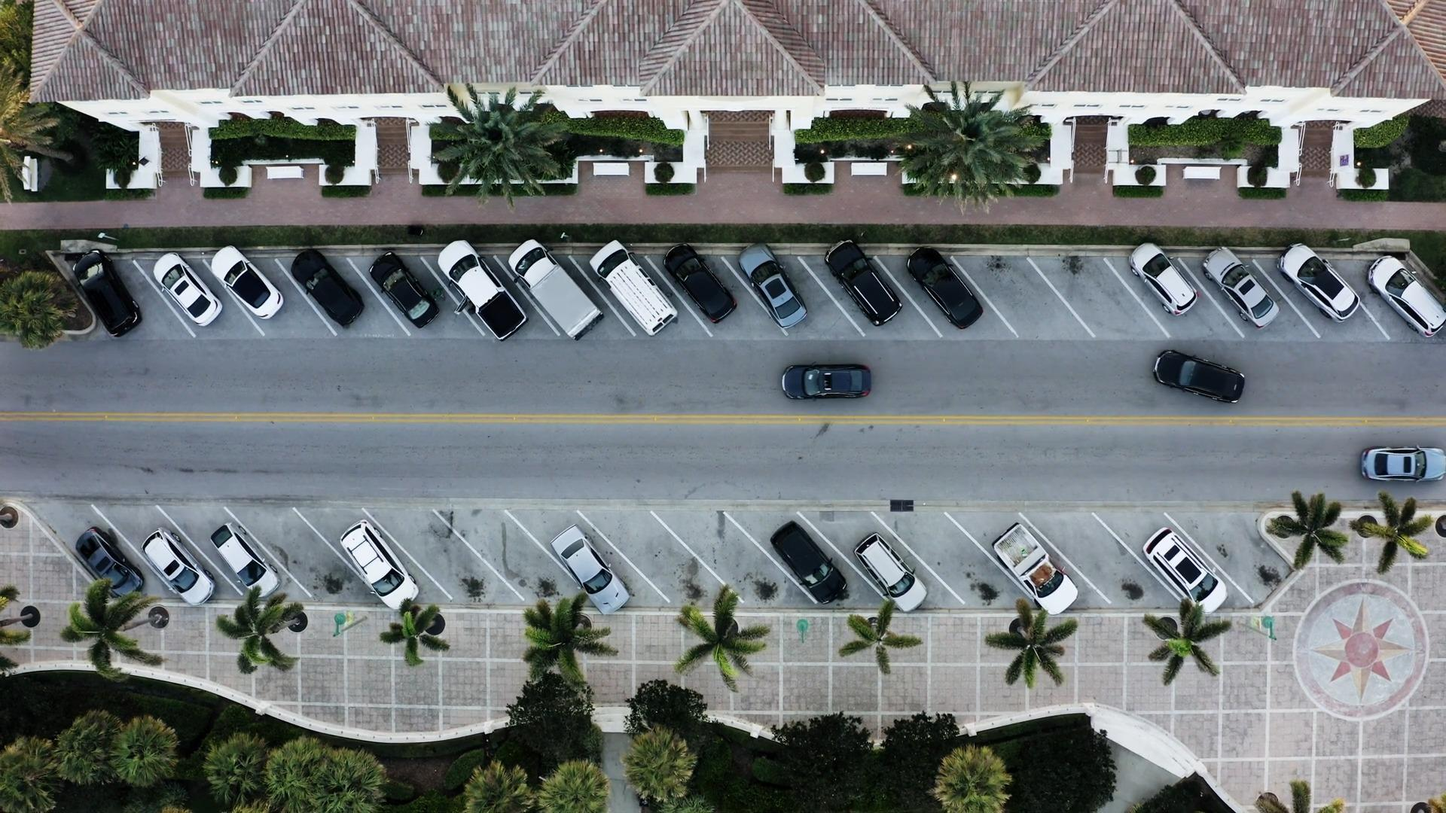available space: (292, 173, 338, 191), (634, 123, 679, 141)
free: (582, 485, 687, 594)
occupied: (1034, 336, 1077, 373), (1398, 77, 1431, 122), (1229, 217, 1269, 252), (976, 134, 1035, 157), (242, 695, 294, 721), (699, 784, 743, 813), (751, 259, 806, 282), (58, 416, 115, 438), (527, 139, 573, 166), (920, 110, 976, 132), (1128, 299, 1176, 324), (1130, 495, 1193, 514), (1276, 276, 1330, 298), (224, 102, 280, 123), (113, 727, 169, 748), (226, 126, 282, 147), (1274, 679, 1329, 700), (290, 123, 342, 145), (289, 651, 343, 672), (86, 439, 133, 463), (110, 632, 165, 652), (82, 186, 104, 236), (1316, 18, 1365, 40), (165, 93, 190, 136), (223, 154, 279, 173), (581, 121, 631, 142), (57, 527, 93, 556), (1149, 348, 1201, 368), (74, 749, 121, 771), (291, 196, 340, 217), (1336, 160, 1385, 181), (239, 748, 290, 768), (471, 789, 517, 811), (126, 701, 174, 722), (130, 524, 166, 552), (61, 294, 114, 313), (413, 790, 463, 810), (979, 681, 1026, 702), (991, 773, 1032, 797), (720, 353, 742, 397), (102, 127, 150, 147), (237, 199, 285, 219), (1272, 325, 1322, 344), (237, 270, 287, 289), (236, 224, 286, 243), (929, 233, 979, 252), (118, 174, 161, 196), (923, 138, 968, 159), (755, 130, 802, 150), (288, 414, 335, 434), (1099, 184, 1146, 204), (235, 341, 287, 359), (406, 198, 455, 217), (414, 746, 463, 765), (592, 720, 638, 740), (931, 658, 977, 678), (808, 684, 854, 704), (1176, 775, 1222, 795), (114, 342, 162, 361), (69, 774, 117, 793), (417, 604, 465, 623), (234, 172, 282, 191), (757, 662, 805, 681), (463, 411, 506, 432), (295, 562, 345, 580), (299, 747, 344, 767), (120, 775, 165, 795), (752, 89, 797, 109), (1102, 136, 1147, 156), (107, 369, 157, 387), (240, 583, 287, 602), (295, 604, 342, 623), (643, 672, 690, 691), (1340, 185, 1387, 204), (1340, 206, 1387, 225), (982, 636, 1029, 655), (1149, 256, 1196, 275), (925, 280, 972, 299), (1096, 589, 1145, 607), (1277, 132, 1319, 153), (292, 223, 336, 243), (245, 725, 291, 744), (418, 722, 464, 741), (302, 770, 348, 789), (801, 211, 847, 230), (1152, 114, 1198, 133), (759, 637, 805, 656), (66, 492, 114, 510), (1338, 229, 1386, 247), (1145, 163, 1193, 181), (810, 661, 858, 679), (808, 96, 851, 116), (590, 767, 635, 786), (1275, 157, 1320, 176), (469, 696, 514, 715), (461, 195, 506, 214), (1149, 232, 1194, 251), (1102, 256, 1147, 275), (809, 234, 854, 253), (1102, 682, 1152, 699), (243, 538, 290, 556), (299, 791, 341, 811), (411, 77, 453, 97), (634, 144, 678, 163), (287, 271, 331, 290), (640, 646, 684, 665), (237, 389, 286, 406), (412, 489, 461, 506), (1265, 374, 1314, 391), (244, 515, 290, 533), (285, 441, 331, 459), (239, 294, 285, 312), (1339, 254, 1385, 272), (588, 789, 634, 807), (1157, 685, 1203, 703), (1100, 471, 1146, 489), (1152, 422, 1198, 440), (1157, 374, 1203, 392), (1149, 139, 1195, 157), (1098, 233, 1144, 251), (96, 515, 129, 540), (132, 414, 175, 433), (981, 113, 1024, 132), (292, 247, 335, 266), (461, 86, 504, 105), (1276, 565, 1324, 582), (299, 726, 344, 744), (474, 581, 519, 599), (1343, 347, 1388, 365), (1340, 278, 1385, 296), (412, 652, 457, 670), (1098, 634, 1143, 652), (463, 126, 508, 144), (1345, 684, 1390, 702), (411, 268, 456, 286), (696, 351, 716, 391), (1282, 109, 1324, 128), (294, 339, 338, 357), (301, 679, 345, 697), (1103, 424, 1147, 442), (1103, 372, 1147, 390), (461, 220, 505, 238), (1149, 185, 1193, 203), (1342, 612, 1388, 629), (1279, 469, 1325, 486), (1280, 183, 1321, 202), (422, 581, 463, 600), (120, 220, 163, 238), (1280, 423, 1323, 441), (289, 490, 332, 508), (1343, 372, 1386, 390), (1103, 113, 1146, 131), (1100, 279, 1143, 297), (1103, 210, 1146, 228), (461, 438, 504, 456), (1277, 209, 1322, 226), (591, 648, 636, 665), (791, 756, 831, 775), (120, 297, 162, 315), (469, 768, 511, 786), (114, 151, 156, 169), (933, 685, 975, 703), (463, 168, 505, 186), (465, 389, 509, 406), (465, 267, 509, 284), (805, 188, 846, 206), (762, 162, 803, 180), (424, 537, 465, 555), (1151, 590, 1197, 606), (1156, 449, 1199, 466), (462, 244, 505, 261), (117, 492, 162, 508), (1102, 325, 1144, 342), (411, 675, 453, 692), (468, 537, 512, 553), (292, 363, 331, 381), (123, 798, 161, 813), (1026, 1, 1047, 27), (1001, 1, 1023, 25), (974, 1, 995, 23), (722, 481, 740, 505), (924, 0, 946, 19), (948, 0, 968, 20), (1050, 0, 1072, 18), (1077, 1, 1096, 21), (1102, 1, 1123, 18), (1129, 1, 1151, 17), (1153, 1, 1175, 15), (91, 100, 108, 113)
